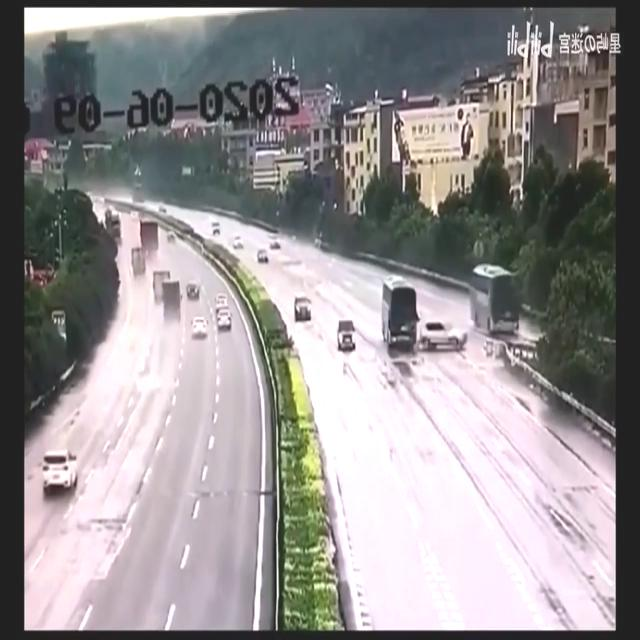accident: (379, 276, 468, 354)
non-accident: (152, 270, 182, 328), (130, 221, 158, 279), (214, 293, 232, 331)
